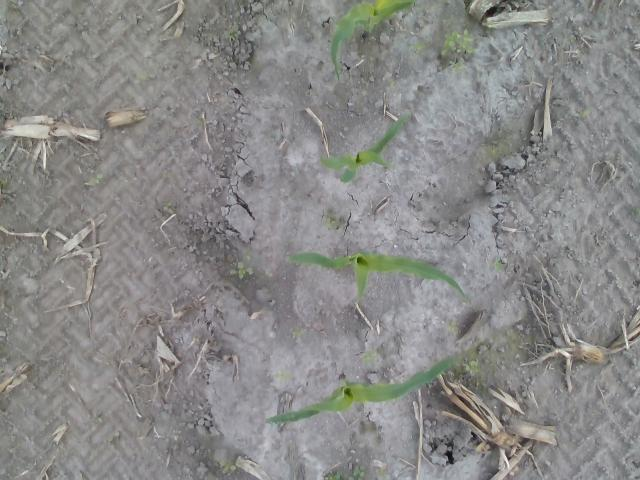Maize: (266, 356, 461, 422), (285, 250, 468, 304), (329, 0, 419, 80), (320, 112, 410, 184)
Weeds: (440, 28, 475, 55), (230, 262, 252, 278), (348, 463, 365, 480), (448, 60, 467, 74), (488, 256, 504, 272), (219, 459, 237, 473), (362, 349, 378, 364), (224, 27, 240, 42), (274, 371, 292, 384), (463, 360, 478, 374), (411, 40, 426, 54), (88, 172, 103, 186), (326, 469, 342, 480), (292, 327, 306, 338), (92, 412, 104, 424), (163, 201, 174, 214), (388, 76, 397, 90), (446, 322, 460, 331), (134, 72, 146, 82), (106, 432, 118, 442), (242, 249, 252, 260), (325, 218, 335, 228), (374, 469, 386, 477), (574, 110, 590, 116), (10, 3, 21, 10), (0, 176, 7, 184), (485, 21, 492, 28), (570, 36, 576, 42), (533, 150, 541, 154), (635, 208, 640, 214)
